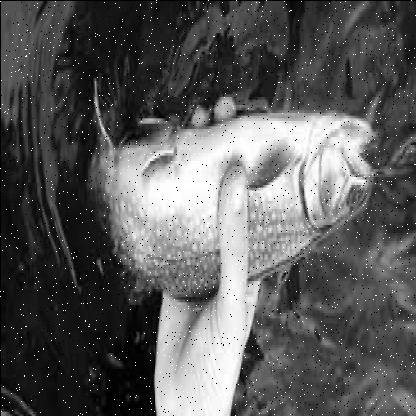fish: (53, 68, 379, 305)
